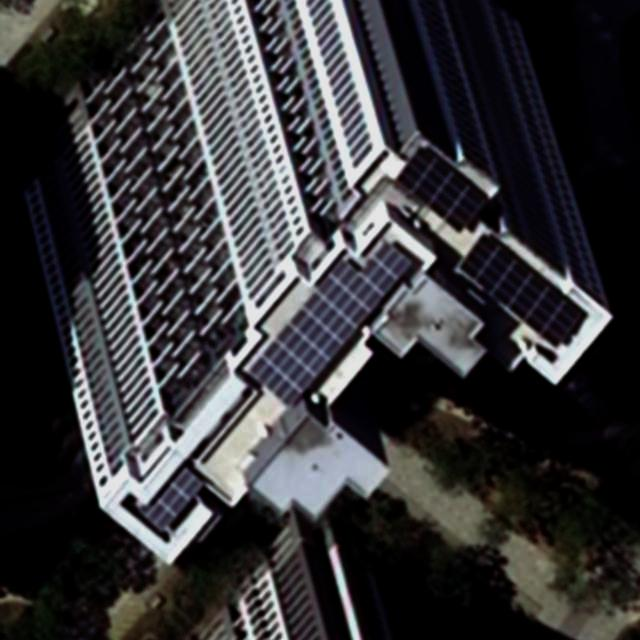solar: (241, 240, 418, 409), (459, 231, 589, 350), (394, 140, 489, 234), (137, 462, 204, 534)
